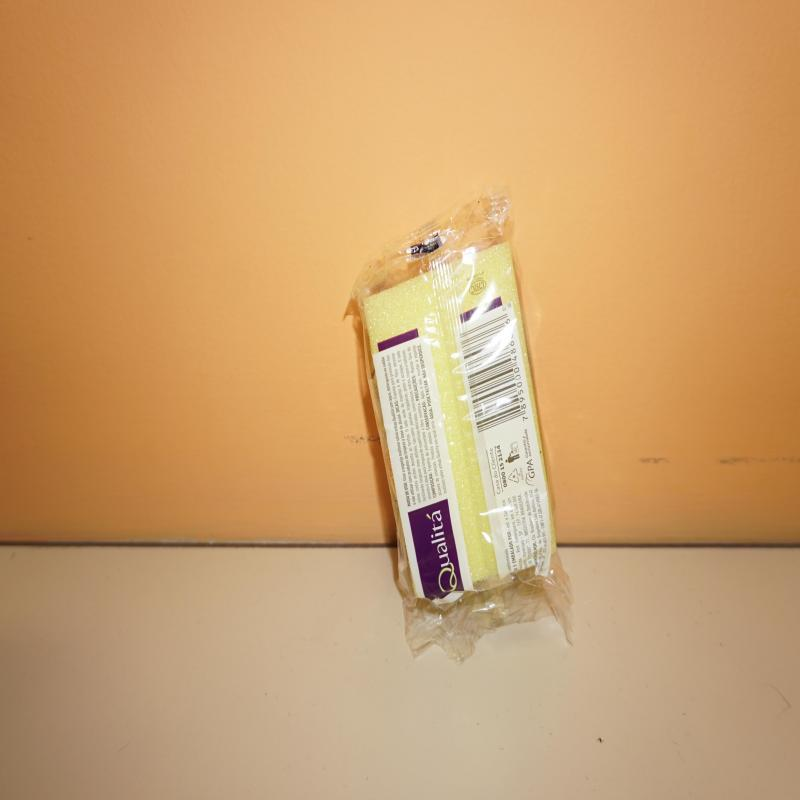Sponge: (348, 197, 574, 664)
